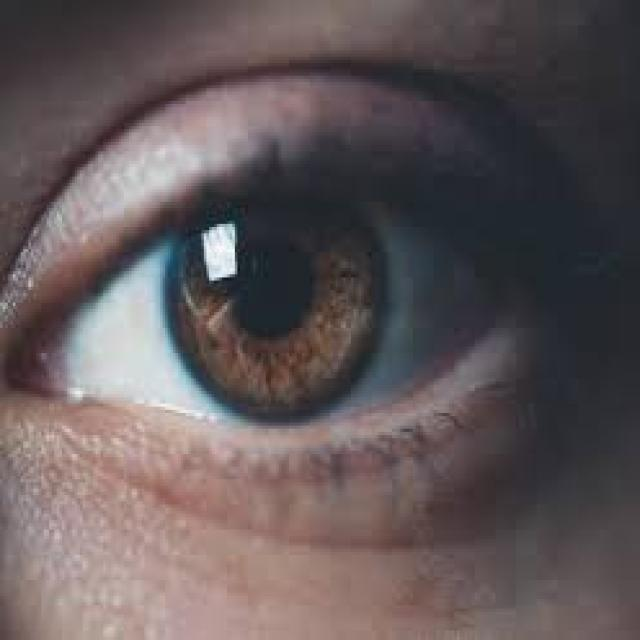Eyes-iris: (156, 178, 392, 430)
